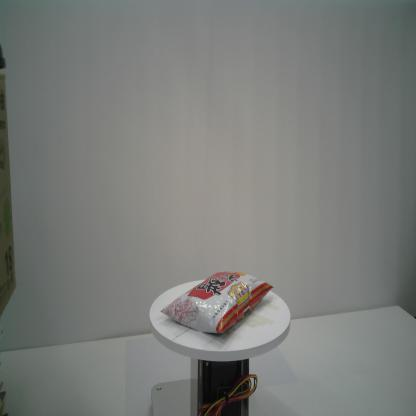Seasoner: (159, 269, 276, 336)
